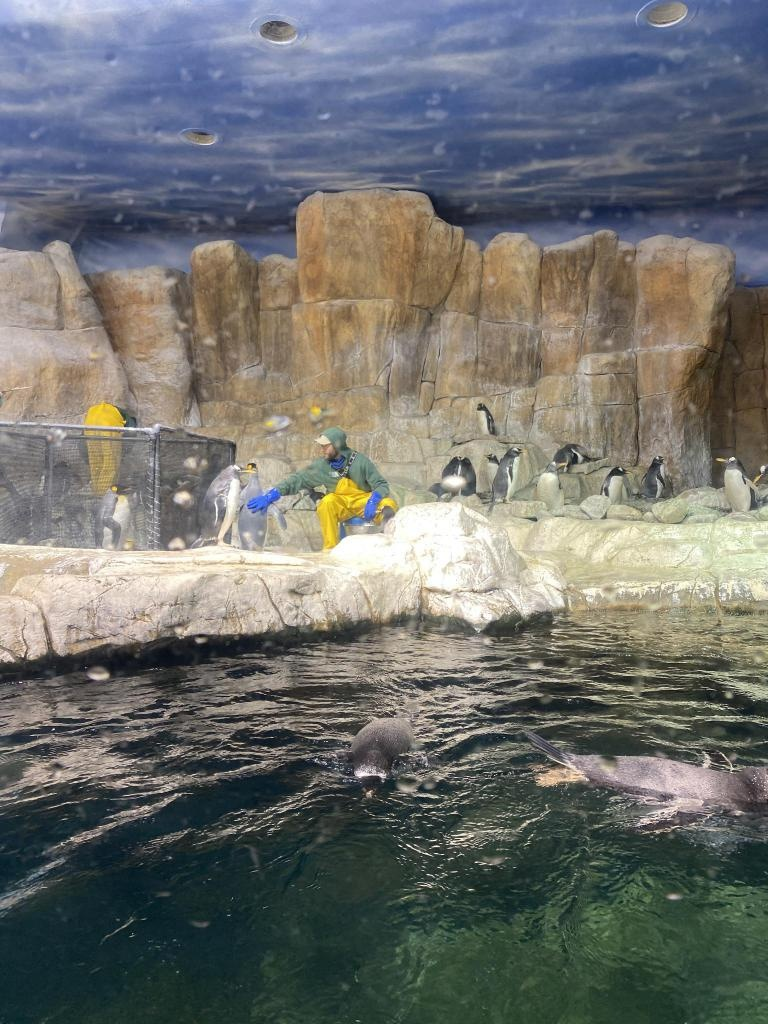penguin: (521, 732, 768, 832), (342, 712, 416, 800), (193, 462, 249, 548), (235, 462, 287, 550), (713, 456, 761, 516), (487, 446, 529, 512), (93, 482, 135, 548), (636, 454, 668, 498), (431, 456, 461, 502), (42, 460, 72, 504), (600, 467, 632, 503), (555, 445, 599, 467), (458, 454, 476, 496), (484, 451, 499, 495), (476, 402, 494, 434)
